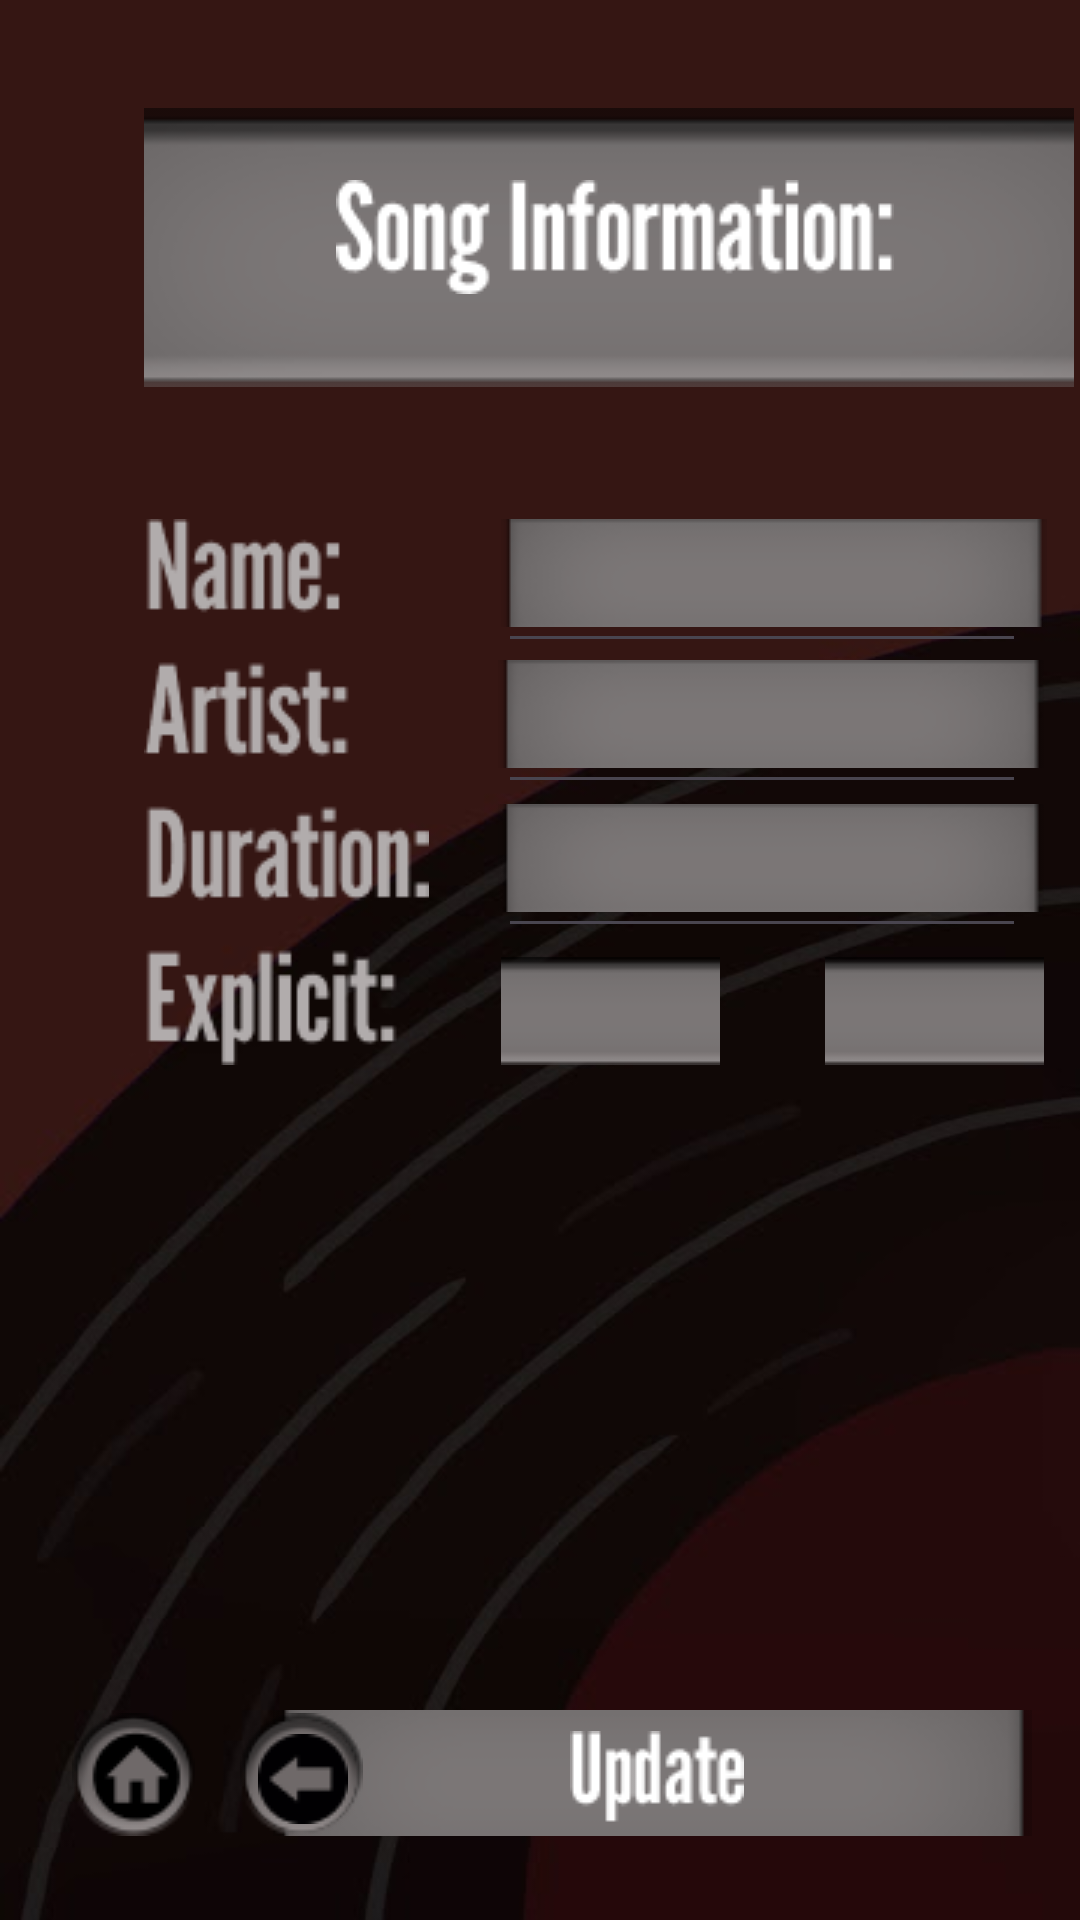

Point at icon controls on the screen. Image size 1080px x 1920px, points as point (x, y).
back arrow: point (303, 1779)
home circle: point (136, 1777)
